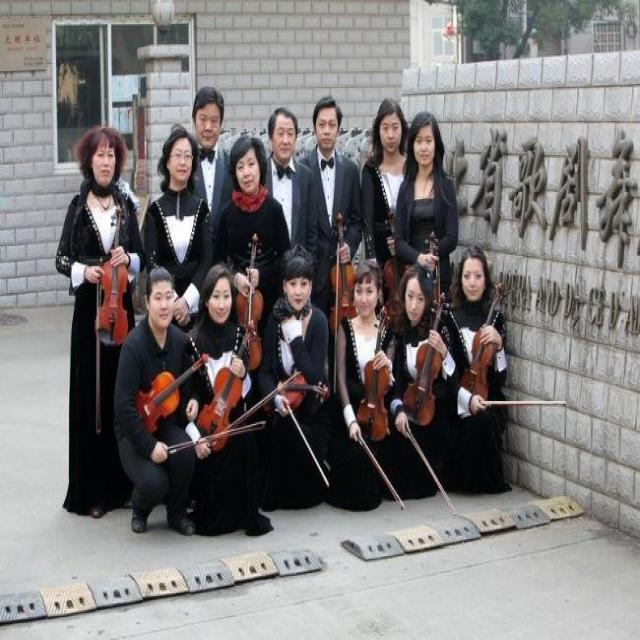violin: (197, 321, 256, 450), (134, 353, 208, 433), (402, 301, 450, 423), (458, 282, 504, 401), (94, 206, 130, 349), (357, 306, 392, 444), (237, 231, 266, 366), (330, 212, 356, 332), (264, 369, 331, 411), (383, 233, 407, 332)
